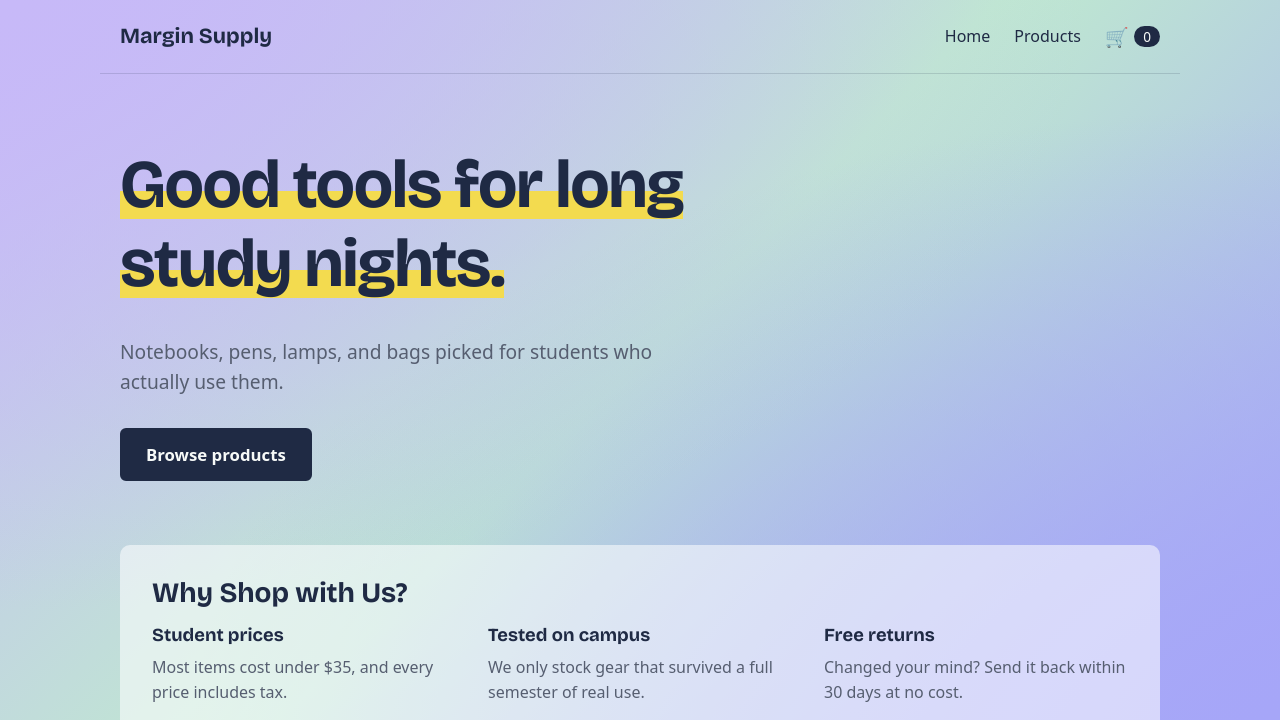
it: App › saves cart changes to localStorage when a product is added
The width and height of the screenshot is (1280, 720).
Click the link "Products": (1048, 37) [1014,24,1081,49]
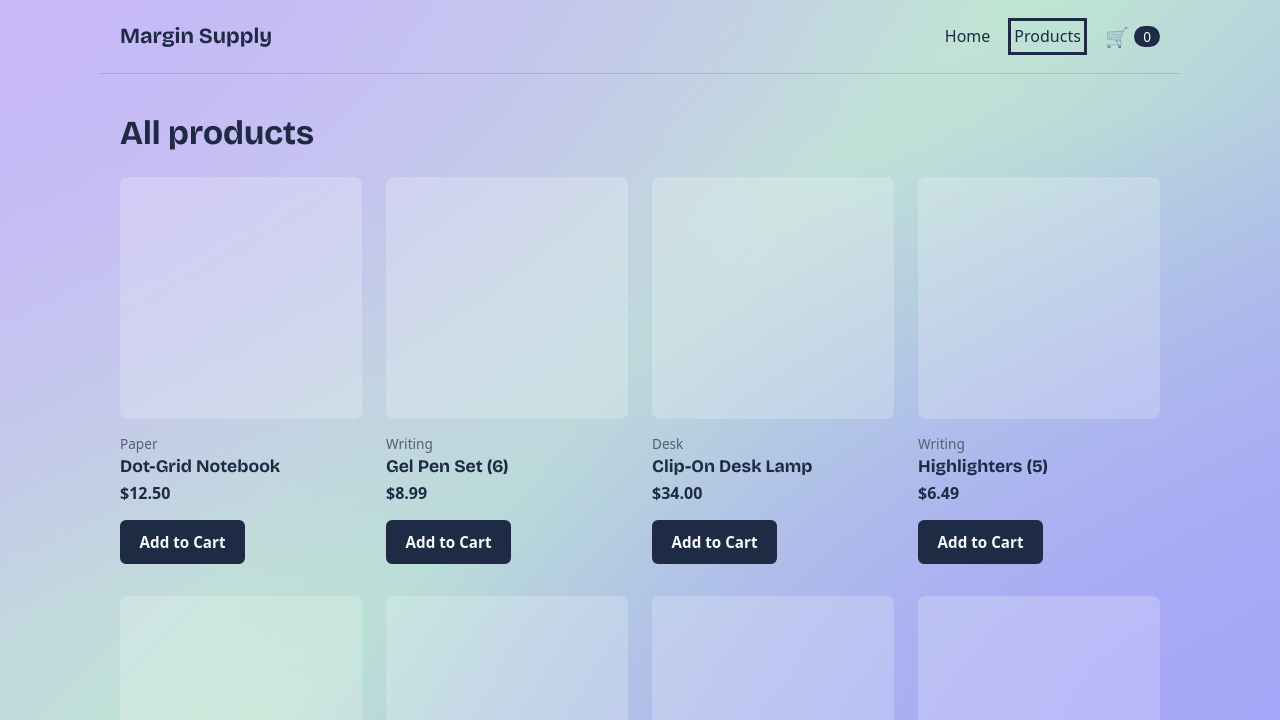
Click the button "Add to Cart" below "12.50": (183, 542) [120,520,245,564]
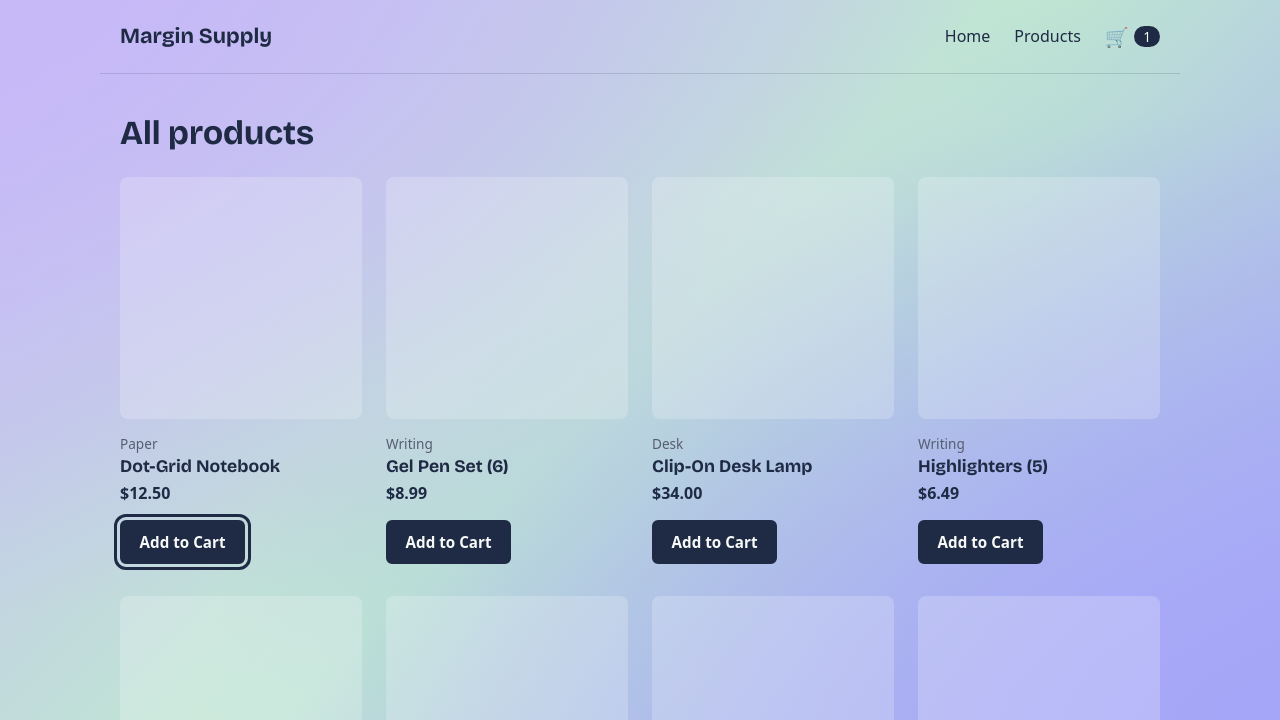
Result: the text with test id "cart-count" reads "1" at [1143,27,1151,46]
